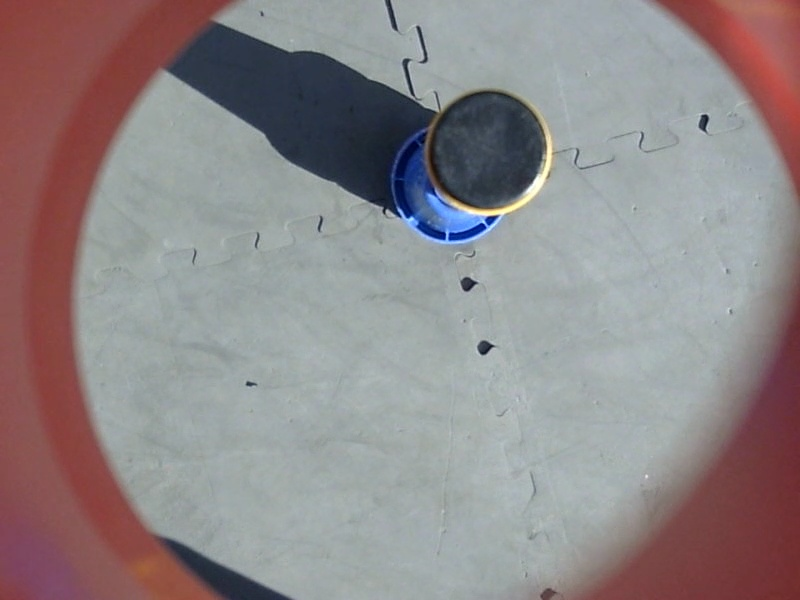tip: (421, 85, 555, 219)
